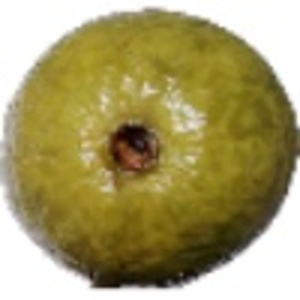goiaba: (4, 4, 297, 293)
